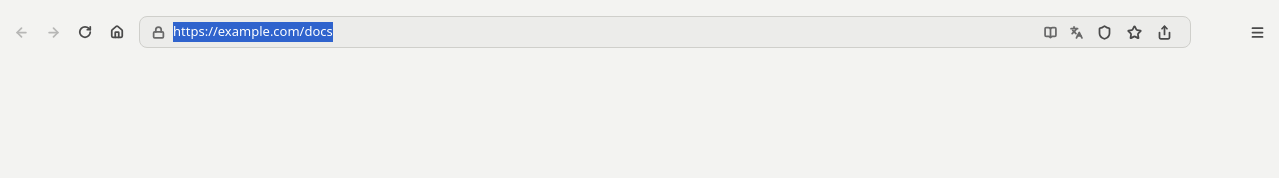
address bar suggestions › switches to the matched tab with ArrowDown then Enter
Replace the text in the dropdown named "address" with "learn" at [600, 32], box [173,22,1026,42]
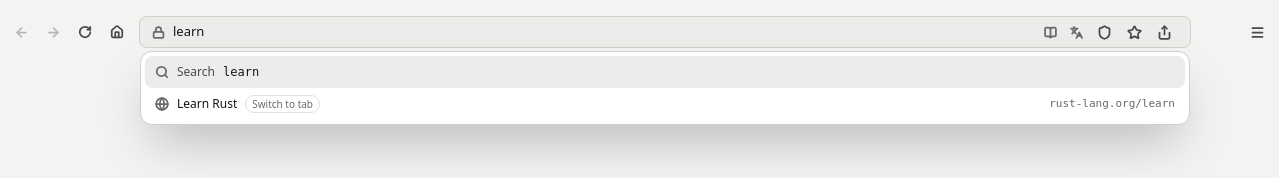
Press ArrowDown in the dropdown named "address", box [173,22,1026,42]
Submit the form named "Address", box [152,22,1026,42]
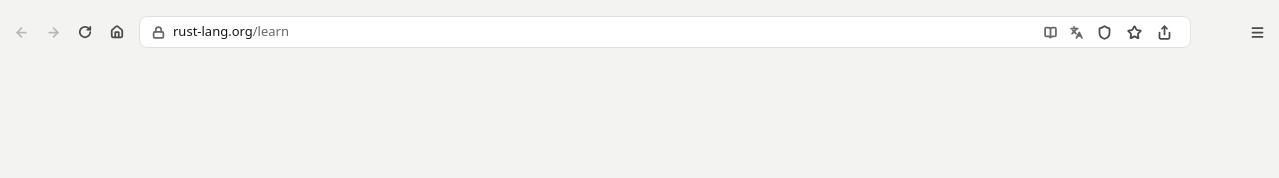
Expected: the list is gone
